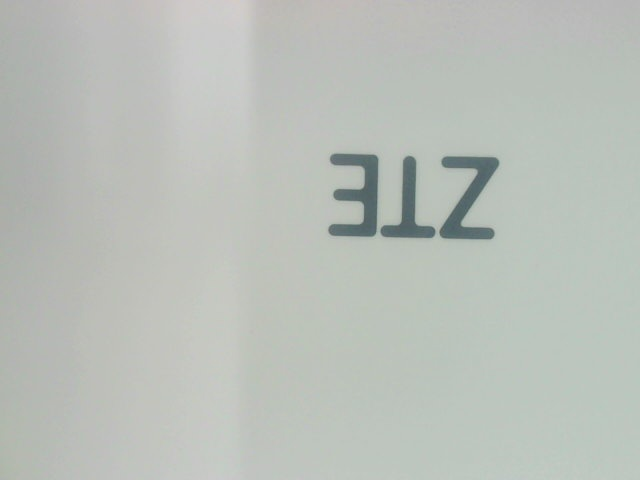AN_ZTE: (321, 150, 503, 251)
